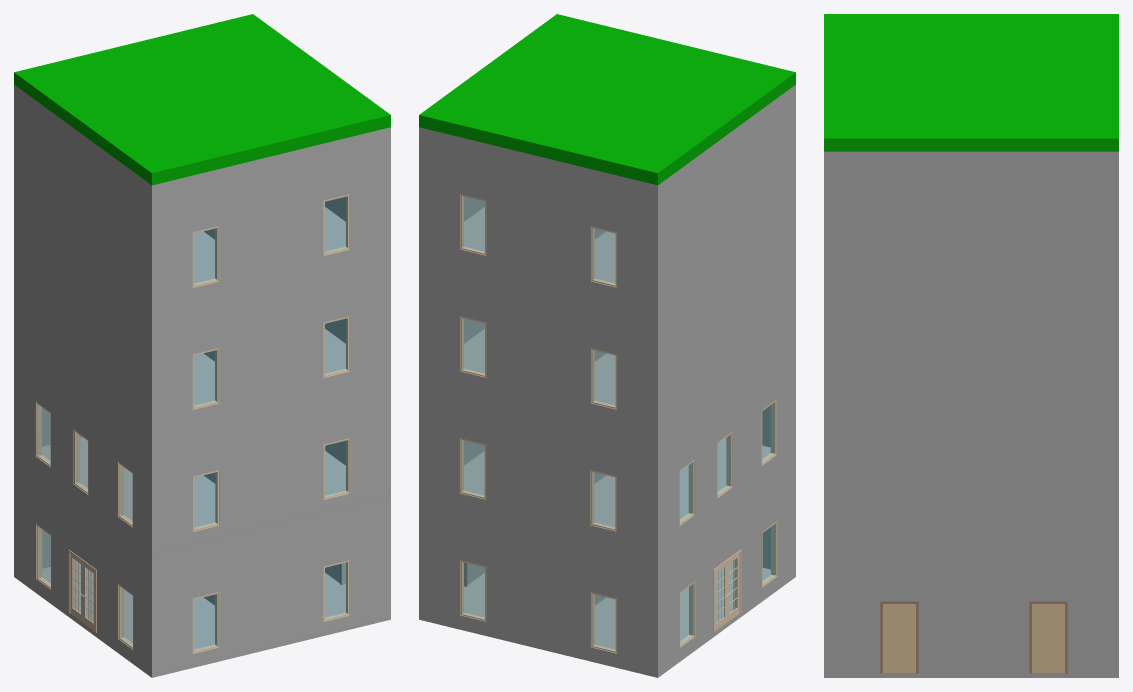
File: TallBuilding.glb
The picture shows the model from 3 angles, left to right: view 1: azimuth 30°, elevation 25°; view 2: azimuth 150°, elevation 25°; view 3: azimuth 270°, elevation 25°; orthographic projection. The views are drawn at different scales.
Parts seen in each view (by area): view 1: product-232e8d77-1fda-4342-b76b-9583425dba03-body, product-232e8d77-1fda-4342-b76b-9d83425d423e-body, product-232e8d77-1fda-4342-b76b-9d82425d423e-body, product-232e8d77-1fda-4342-b76b-9d85425d423e-body, product-232e8d77-1fda-4342-b76b-9d80425d423e-body, product-232e8d77-1fda-4342-b76b-9d82425d4206-body, product-232e8d77-1fda-4342-b76b-9d85425d4206-body, product-232e8d77-1fda-4342-b76b-9d83425d4206-body, product-232e8d77-1fda-4342-b76b-9d80425d4206-body, product-232e8d77-1fda-4342-b76b-9581425dba3b-body, product-232e8d77-1fda-4342-b76b-9581425dba21-body, product-232e8d77-1fda-4342-b76b-9581425d43dd-body (+21 smaller); view 2: product-232e8d77-1fda-4342-b76b-9583425dba03-body, product-232e8d77-1fda-4342-b76b-9d83425d42b5-body, product-232e8d77-1fda-4342-b76b-9d82425d42b5-body, product-232e8d77-1fda-4342-b76b-9d85425d42b5-body, product-232e8d77-1fda-4342-b76b-9d80425d42b5-body, product-232e8d77-1fda-4342-b76b-9d82425d4206-body, product-232e8d77-1fda-4342-b76b-9d85425d4206-body, product-232e8d77-1fda-4342-b76b-9d83425d4206-body, product-232e8d77-1fda-4342-b76b-9d80425d4206-body, product-232e8d77-1fda-4342-b76b-9581425dba3b-body, product-232e8d77-1fda-4342-b76b-9581425dba21-body, product-232e8d77-1fda-4342-b76b-9581425d43dd-body (+17 smaller); view 3: product-232e8d77-1fda-4342-b76b-9583425dba03-body, product-232e8d77-1fda-4342-b76b-9d83425d4272-body, product-232e8d77-1fda-4342-b76b-9d82425d4272-body, product-232e8d77-1fda-4342-b76b-9d85425d4272-body, product-232e8d77-1fda-4342-b76b-9d80425d4272-body, product-232e8d77-1fda-4342-b76b-9581425d4311-body, product-232e8d77-1fda-4342-b76b-9581425d4165-body, product-232e8d77-1fda-4342-b76b-9581425dba21-body, product-232e8d77-1fda-4342-b76b-9581425dba3b-body, product-232e8d77-1fda-4342-b76b-9d83425d42b5-body, product-232e8d77-1fda-4342-b76b-9d82425d42b5-body, product-232e8d77-1fda-4342-b76b-9d85425d42b5-body (+1 smaller).
Boxes of the visible parts, bbox=[...] form: product-232e8d77-1fda-4342-b76b-9583425dba03-body: bbox=[14, 14, 390, 185]; product-232e8d77-1fda-4342-b76b-9d83425d423e-body: bbox=[148, 372, 384, 551]; product-232e8d77-1fda-4342-b76b-9d82425d423e-body: bbox=[148, 250, 384, 429]; product-232e8d77-1fda-4342-b76b-9d85425d423e-body: bbox=[148, 128, 384, 307]; product-232e8d77-1fda-4342-b76b-9d80425d423e-body: bbox=[148, 499, 384, 673]; product-232e8d77-1fda-4342-b76b-9d82425d4206-body: bbox=[17, 209, 148, 426]; product-232e8d77-1fda-4342-b76b-9d85425d4206-body: bbox=[17, 87, 148, 304]; product-232e8d77-1fda-4342-b76b-9d83425d4206-body: bbox=[17, 331, 148, 548]; product-232e8d77-1fda-4342-b76b-9d80425d4206-body: bbox=[17, 457, 148, 670]; product-232e8d77-1fda-4342-b76b-9581425dba3b-body: bbox=[14, 561, 390, 677]; product-232e8d77-1fda-4342-b76b-9581425dba21-body: bbox=[14, 437, 390, 555]; product-232e8d77-1fda-4342-b76b-9581425d43dd-body: bbox=[68, 550, 96, 632]; product-232e8d77-1fda-4342-b76b-9583425dba03-body: bbox=[419, 14, 795, 185]; product-232e8d77-1fda-4342-b76b-9d83425d42b5-body: bbox=[419, 371, 661, 551]; product-232e8d77-1fda-4342-b76b-9d82425d42b5-body: bbox=[419, 249, 661, 429]; product-232e8d77-1fda-4342-b76b-9d85425d42b5-body: bbox=[419, 127, 661, 307]; product-232e8d77-1fda-4342-b76b-9d80425d42b5-body: bbox=[419, 497, 661, 673]; product-232e8d77-1fda-4342-b76b-9d82425d4206-body: bbox=[661, 209, 792, 426]; product-232e8d77-1fda-4342-b76b-9d85425d4206-body: bbox=[661, 87, 792, 304]; product-232e8d77-1fda-4342-b76b-9d83425d4206-body: bbox=[661, 331, 792, 548]; product-232e8d77-1fda-4342-b76b-9d80425d4206-body: bbox=[661, 457, 792, 670]; product-232e8d77-1fda-4342-b76b-9581425dba3b-body: bbox=[419, 561, 795, 677]; product-232e8d77-1fda-4342-b76b-9581425dba21-body: bbox=[419, 438, 795, 555]; product-232e8d77-1fda-4342-b76b-9581425d43dd-body: bbox=[713, 550, 741, 632]; product-232e8d77-1fda-4342-b76b-9583425dba03-body: bbox=[824, 14, 1118, 151]; product-232e8d77-1fda-4342-b76b-9d83425d4272-body: bbox=[824, 412, 1111, 542]; product-232e8d77-1fda-4342-b76b-9d82425d4272-body: bbox=[824, 282, 1111, 412]; product-232e8d77-1fda-4342-b76b-9d85425d4272-body: bbox=[824, 151, 1111, 281]; product-232e8d77-1fda-4342-b76b-9d80425d4272-body: bbox=[824, 547, 1111, 672]; product-232e8d77-1fda-4342-b76b-9581425d4311-body: bbox=[1029, 601, 1067, 673]; product-232e8d77-1fda-4342-b76b-9581425d4165-body: bbox=[880, 601, 918, 673]; product-232e8d77-1fda-4342-b76b-9581425dba21-body: bbox=[824, 542, 1118, 547]; product-232e8d77-1fda-4342-b76b-9581425dba3b-body: bbox=[824, 673, 1118, 677]; product-232e8d77-1fda-4342-b76b-9d83425d42b5-body: bbox=[1111, 412, 1118, 542]; product-232e8d77-1fda-4342-b76b-9d82425d42b5-body: bbox=[1111, 282, 1118, 412]; product-232e8d77-1fda-4342-b76b-9d85425d42b5-body: bbox=[1111, 151, 1118, 281].
Bounding box in the file's own units: 8.28 × 16.55 × 8.2.
